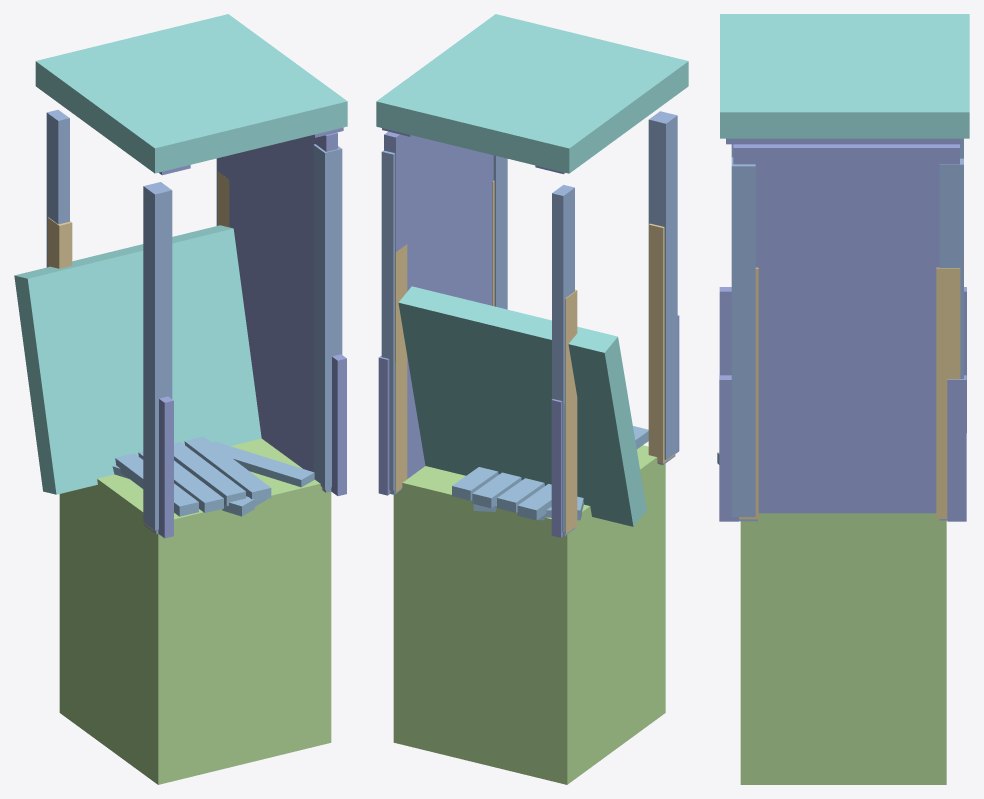
Rendered from door.glb.
3 views of the same model, side by side, from view 1: azimuth 30°, elevation 25°; view 2: azimuth 150°, elevation 25°; view 3: azimuth 270°, elevation 25° (orthographic). The views are drawn at different scales.
Parts seen in each view (by area): view 1: S6|SM_Foundation_Hesco#0, S4|SM_BuildableDoor_TopSegment_01a#0, S5|SM_BuildableDoor_TopSegment_01a#0, S1|SM_BuildableDoor_Stage5_01b#0, S4|SM_BuildableDoor_Door_Stage3#1, S3|SM_BuildableDoor_Door_Stage3#0, S5|SM_BuildableDoor_Door_Stage_01a#1, S5|SM_BuildableDoor_Door_Stage_01a#0, S3|SM_BuildableDoor_Door_Stage2#0, S3|SM_Wooden_Plank_01a#5, S1|SM_Wooden_Plank_01a#3, S2|SM_Wooden_Plank_01a#4 (+5 smaller); view 2: S6|SM_Foundation_Hesco#0, S4|SM_BuildableDoor_TopSegment_01a#0, S5|SM_BuildableDoor_TopSegment_01a#0, S1|SM_BuildableDoor_Stage5_01b#0, S4|SM_BuildableDoor_Door_Stage3#1, S3|SM_BuildableDoor_Door_Stage2#0, S3|SM_BuildableDoor_Door_Stage3#0, S2|SM_BuildableDoor_Door_Stage2#0, S5|SM_BuildableDoor_Door_Stage_01a#1, S5|SM_BuildableDoor_Door_Stage_01a#0, S3|SM_Wooden_Plank_01a#5, S3|SM_Wooden_Plank_01a#6 (+1 smaller); view 3: S1|SM_BuildableDoor_Stage5_01b#0, S6|SM_Foundation_Hesco#0, S5|SM_BuildableDoor_TopSegment_01a#0, S3|SM_BuildableDoor_Door_Stage3#0, S5|SM_BuildableDoor_Door_Stage_01a#0, S2|SM_BuildableDoor_Door_Stage2#0, S5|SM_BuildableDoor_Door_Stage_01a#1.
Part boxes in pixels (x1,y1,x2,y2): S6|SM_Foundation_Hesco#0: (59, 438, 331, 784); S4|SM_BuildableDoor_TopSegment_01a#0: (14, 225, 261, 494); S5|SM_BuildableDoor_TopSegment_01a#0: (35, 14, 347, 173); S1|SM_BuildableDoor_Stage5_01b#0: (217, 132, 337, 471); S4|SM_BuildableDoor_Door_Stage3#1: (46, 110, 172, 530); S3|SM_BuildableDoor_Door_Stage3#0: (216, 144, 342, 488); S5|SM_BuildableDoor_Door_Stage_01a#1: (158, 165, 190, 538); S5|SM_BuildableDoor_Door_Stage_01a#0: (312, 127, 346, 495); S3|SM_BuildableDoor_Door_Stage2#0: (47, 217, 155, 532); S3|SM_Wooden_Plank_01a#5: (115, 453, 198, 516); S1|SM_Wooden_Plank_01a#3: (174, 442, 245, 495); S2|SM_Wooden_Plank_01a#4: (184, 439, 270, 498); S6|SM_Foundation_Hesco#0: (393, 445, 665, 784); S4|SM_BuildableDoor_TopSegment_01a#0: (398, 286, 646, 526); S5|SM_BuildableDoor_TopSegment_01a#0: (376, 14, 688, 173); S1|SM_BuildableDoor_Stage5_01b#0: (384, 131, 493, 478); S4|SM_BuildableDoor_Door_Stage3#1: (552, 111, 677, 532); S3|SM_BuildableDoor_Door_Stage2#0: (565, 223, 675, 533); S3|SM_BuildableDoor_Door_Stage3#0: (381, 150, 507, 490); S2|SM_BuildableDoor_Door_Stage2#0: (395, 180, 494, 492); S5|SM_BuildableDoor_Door_Stage_01a#1: (535, 165, 679, 537); S5|SM_BuildableDoor_Door_Stage_01a#0: (378, 128, 411, 495); S3|SM_Wooden_Plank_01a#5: (517, 426, 648, 520); S3|SM_Wooden_Plank_01a#6: (497, 478, 544, 512); S1|SM_BuildableDoor_Stage5_01b#0: (733, 144, 959, 513); S6|SM_Foundation_Hesco#0: (740, 513, 946, 784); S5|SM_BuildableDoor_TopSegment_01a#0: (720, 14, 969, 138); S3|SM_BuildableDoor_Door_Stage3#0: (731, 157, 963, 516); S5|SM_BuildableDoor_Door_Stage_01a#0: (719, 138, 966, 521); S2|SM_BuildableDoor_Door_Stage2#0: (739, 267, 960, 519); S5|SM_BuildableDoor_Door_Stage_01a#1: (719, 287, 966, 432).
Size of the model in its own units: 1.79 by 4.99 by 1.69.
